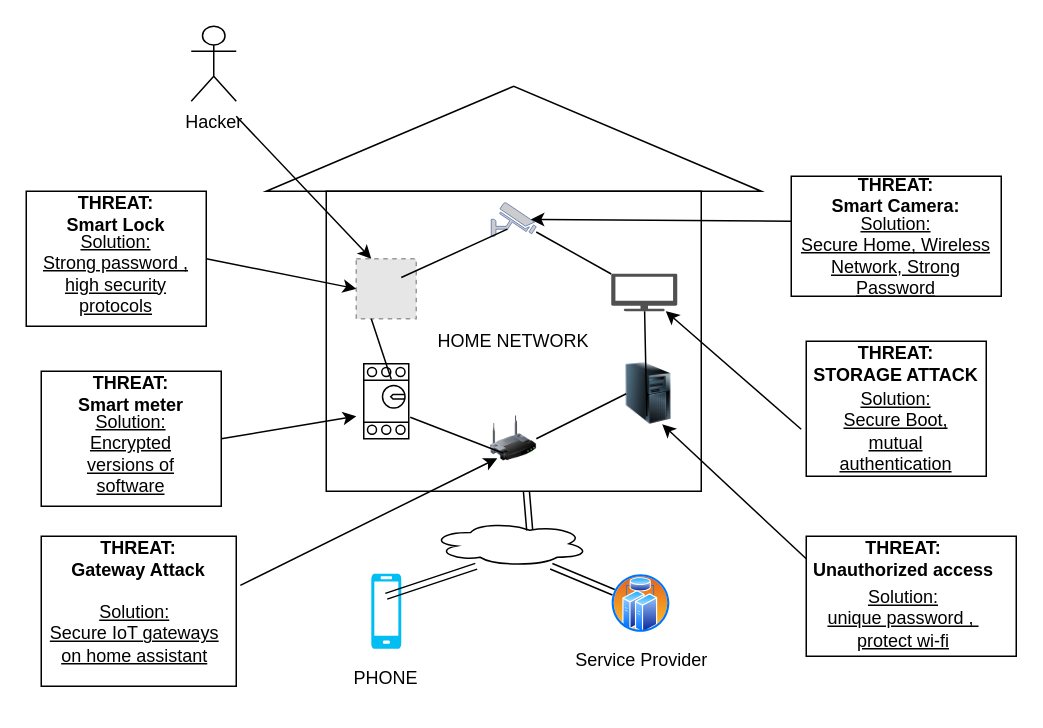
The diagram is 1043 pixels wide and 728 high, and some of its shapes have lost their labels. Grey dashed boxes stand in for pictures. Here are the shapes that lost their labels. From the top down, the box of each, then its label:
(453, 416, 573, 460): Home Gateway
(430, 520, 589, 566): Internet
